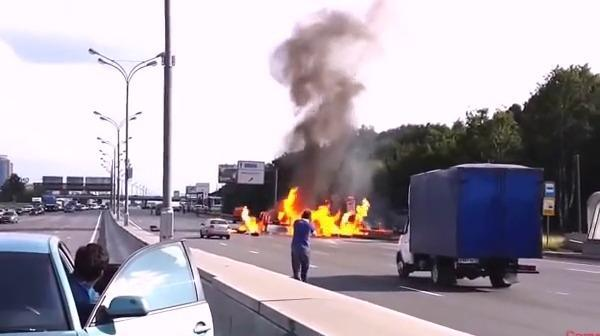fire: (276, 184, 374, 239), (238, 203, 263, 236)
